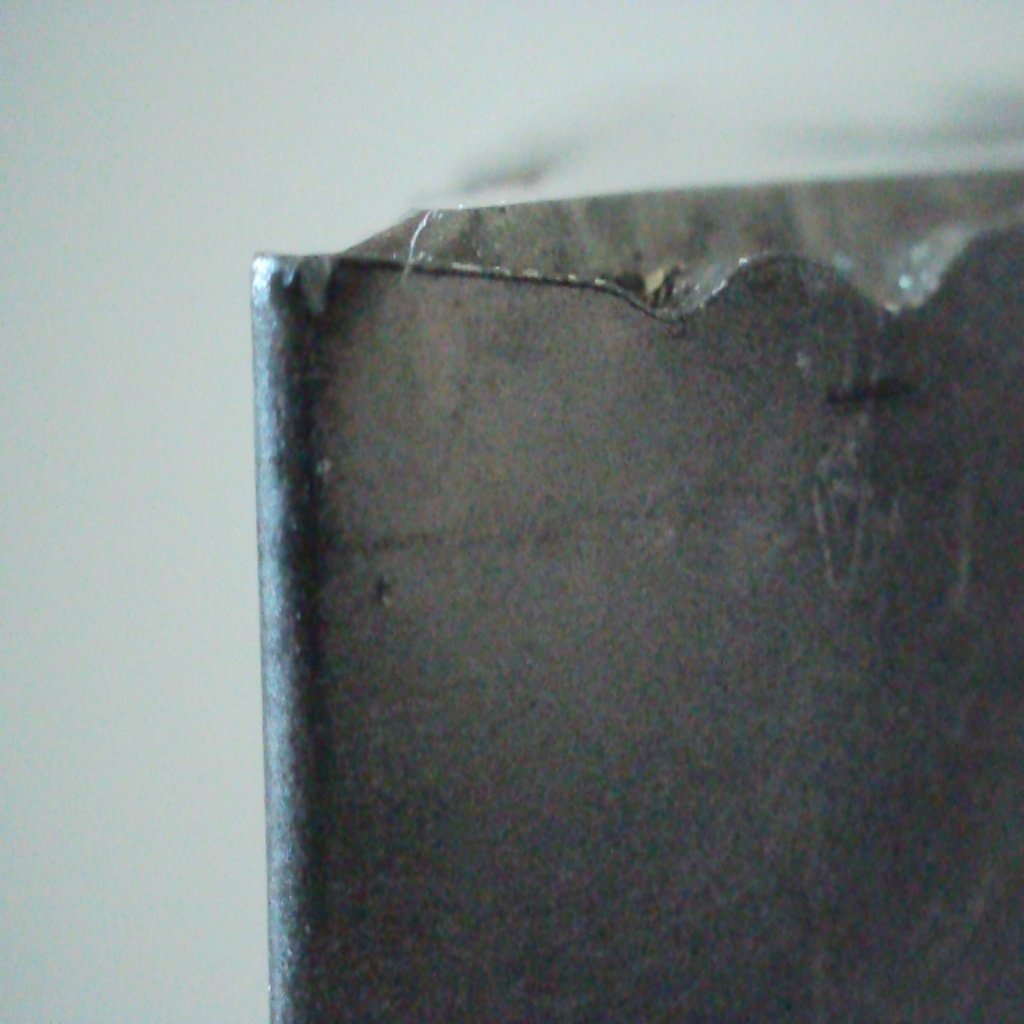flank_wear: (242, 236, 338, 327)
